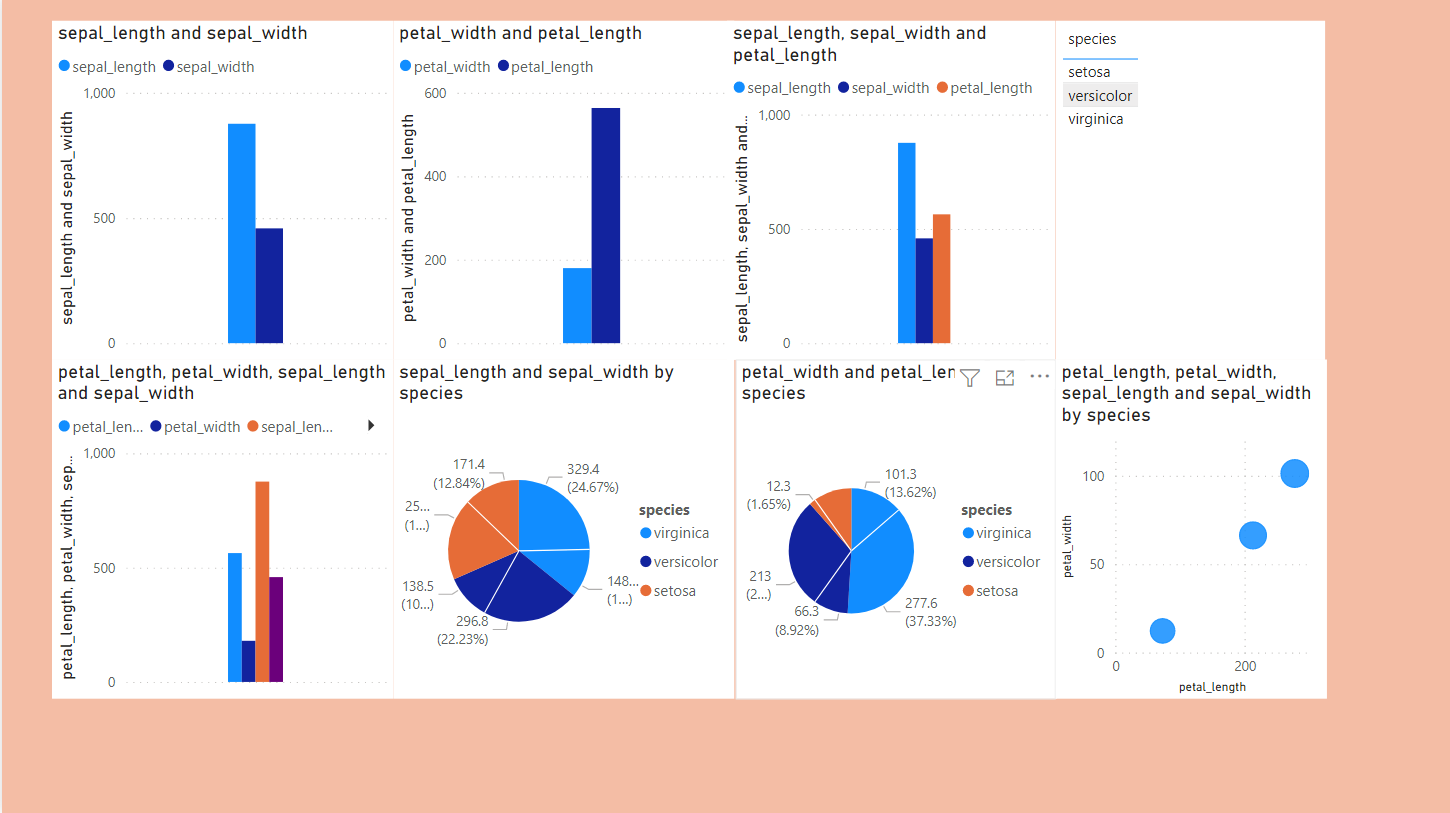

What the dashboard file says about the page in this screenshot:
{"tool":"powerbi","page":{"name":"Page 1","canvas":[1280,720],"ordinal":0},"visuals":[{"type":"clusteredColumnChart","fields":{"Y":["Sum(iris.sepal_length)","Sum(iris.sepal_width)"]},"box":[43.9,20.6,300.8,299.4],"z":0},{"type":"clusteredColumnChart","fields":{"Y":["Sum(iris.petal_width)","Sum(iris.petal_length)"]},"box":[344.7,20.6,300.8,299.4],"z":1000},{"type":"clusteredColumnChart","fields":{"Y":["Sum(iris.sepal_length)","Sum(iris.sepal_width)","Sum(iris.petal_length)"]},"box":[640,20.6,289.8,299.4],"z":2000},{"type":"clusteredColumnChart","fields":{"Y":["Sum(iris.petal_length)","Sum(iris.petal_width)","Sum(iris.sepal_length)","Sum(iris.sepal_width)"]},"box":[43.9,320,300.8,299.4],"z":3000},{"type":"pieChart","fields":{"Y":["Sum(iris.sepal_length)","Sum(iris.sepal_width)"],"Category":["iris.species"]},"box":[344.7,320,300.8,299.4],"z":4000},{"type":"pieChart","fields":{"Y":["Sum(iris.petal_width)","Sum(iris.petal_length)"],"Category":["iris.species"]},"box":[646.9,320,282.9,299.4],"z":5000},{"type":"tableEx","fields":{"Values":["iris.species"]},"box":[929.8,20.6,237.6,299.4],"z":6000},{"type":"scatterChart","fields":{"X":["Sum(iris.petal_length)"],"Y":["Sum(iris.petal_width)"],"Size":["Sum(iris.sepal_length)"],"Category":["iris.species"]},"box":[929.8,320,239,299.4],"z":7000}]}

Visuals, with their boxes in screenshot pixels (x1, y1, x2, y2), scaled from the page's 1280x720 canvas onto the 1450x813 screenshot:
clusteredColumnChart - Sum(iris.sepal_length) x Sum(iris.sepal_width): detection(50, 23, 390, 361)
clusteredColumnChart - Sum(iris.petal_width) x Sum(iris.petal_length): detection(390, 23, 731, 361)
clusteredColumnChart - Sum(iris.sepal_length) x Sum(iris.sepal_width): detection(725, 23, 1053, 361)
clusteredColumnChart - Sum(iris.petal_length) x Sum(iris.petal_width): detection(50, 361, 390, 699)
pieChart - Sum(iris.sepal_length) x Sum(iris.sepal_width): detection(390, 361, 731, 699)
pieChart - Sum(iris.petal_width) x Sum(iris.petal_length): detection(733, 361, 1053, 699)
tableEx - iris.species: detection(1053, 23, 1322, 361)
scatterChart - Sum(iris.petal_length) x Sum(iris.petal_width): detection(1053, 361, 1324, 699)
